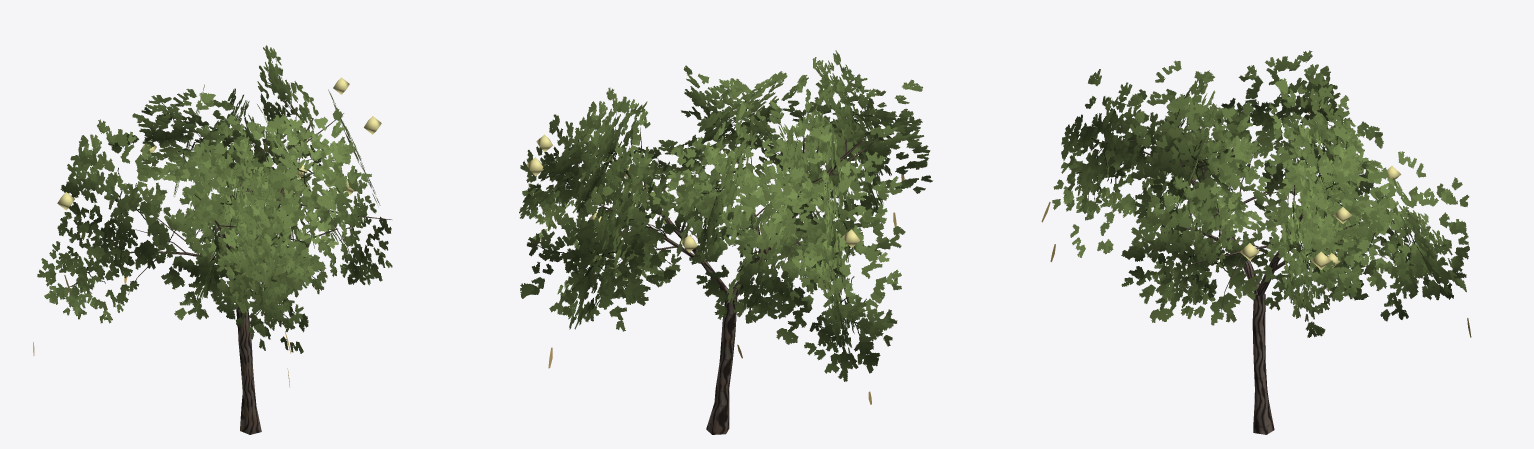
File: young-b.lod1.glb
The picture shows the model from 3 angles, left to right: view 1: azimuth 30°, elevation 25°; view 2: azimuth 150°, elevation 25°; view 3: azimuth 270°, elevation 25°; orthographic projection. The views are drawn at different scales.
Visible parts, largest first — view 1: foliage, bark, flowers; view 2: foliage, bark, flowers; view 3: foliage, bark, flowers.
Part boxes in pixels (x1,y1,x2,y2): foliage: [37, 45, 392, 353]; bark: [110, 107, 391, 434]; flowers: [57, 77, 381, 210]; foliage: [519, 50, 932, 381]; bark: [591, 103, 879, 434]; flowers: [526, 134, 860, 252]; foliage: [1052, 50, 1469, 337]; bark: [1099, 118, 1386, 434]; flowers: [1240, 106, 1401, 269].
Bounding box in the file's own units: 4.68 × 3.8 × 4.7.
4 materials, 2 textured.
